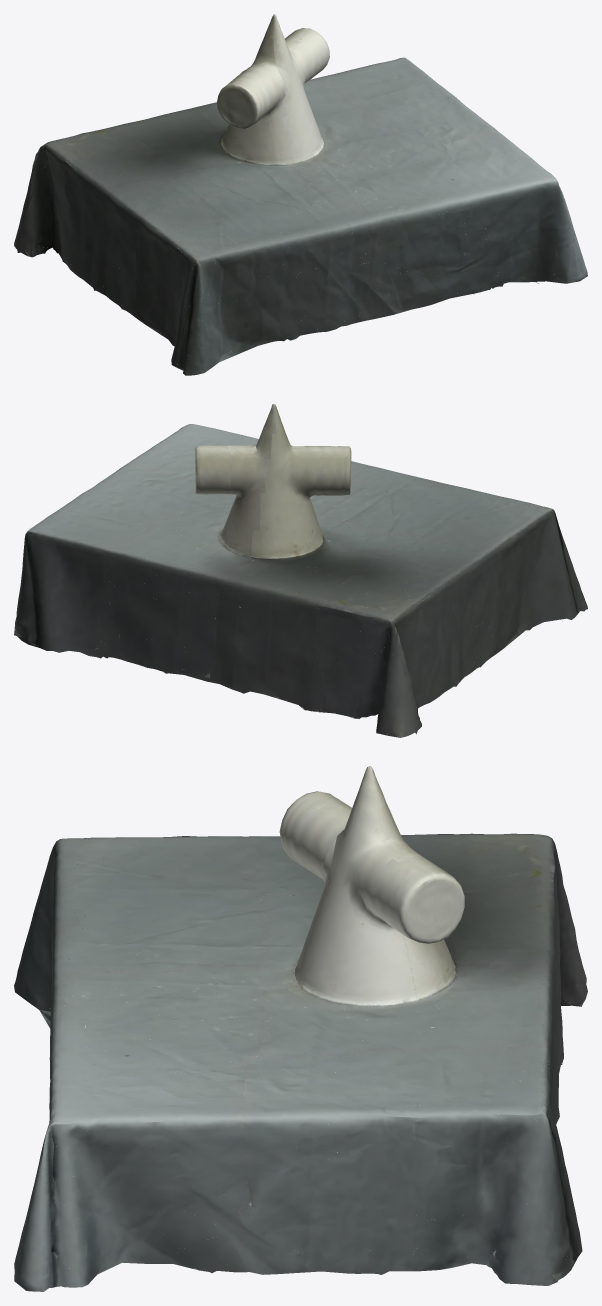
The model's file is 静物_几何体_锥柱组合01_opt.glb.
The picture shows the model from 3 angles, top to bottom: view 1: azimuth 30°, elevation 25°; view 2: azimuth 150°, elevation 25°; view 3: azimuth 270°, elevation 25°; orthographic projection. The views are drawn at different scales.
Parts seen in each view (by area): view 1: defaultMat, defaultMat_1; view 2: defaultMat, defaultMat_1; view 3: defaultMat, defaultMat_1.
Boxes of the visible parts, x1=… form: defaultMat: x1=14, y1=14, x2=587, y2=375; defaultMat_1: x1=19, y1=18, x2=585, y2=367; defaultMat: x1=14, y1=404, x2=587, y2=737; defaultMat_1: x1=14, y1=405, x2=579, y2=729; defaultMat: x1=14, y1=766, x2=587, y2=1291; defaultMat_1: x1=19, y1=808, x2=579, y2=1287.
Size of the model in its own units: 0.5435 by 0.3 by 0.4218.
1 material, 1 textured.
